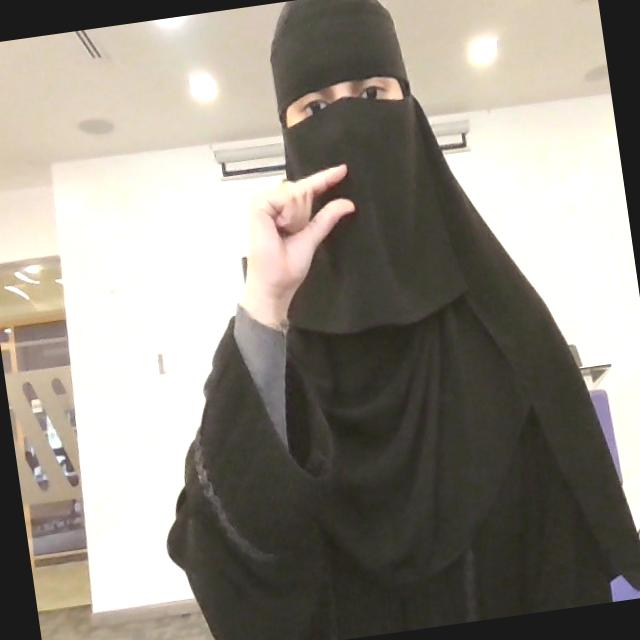fasting: (226, 162, 370, 330)
